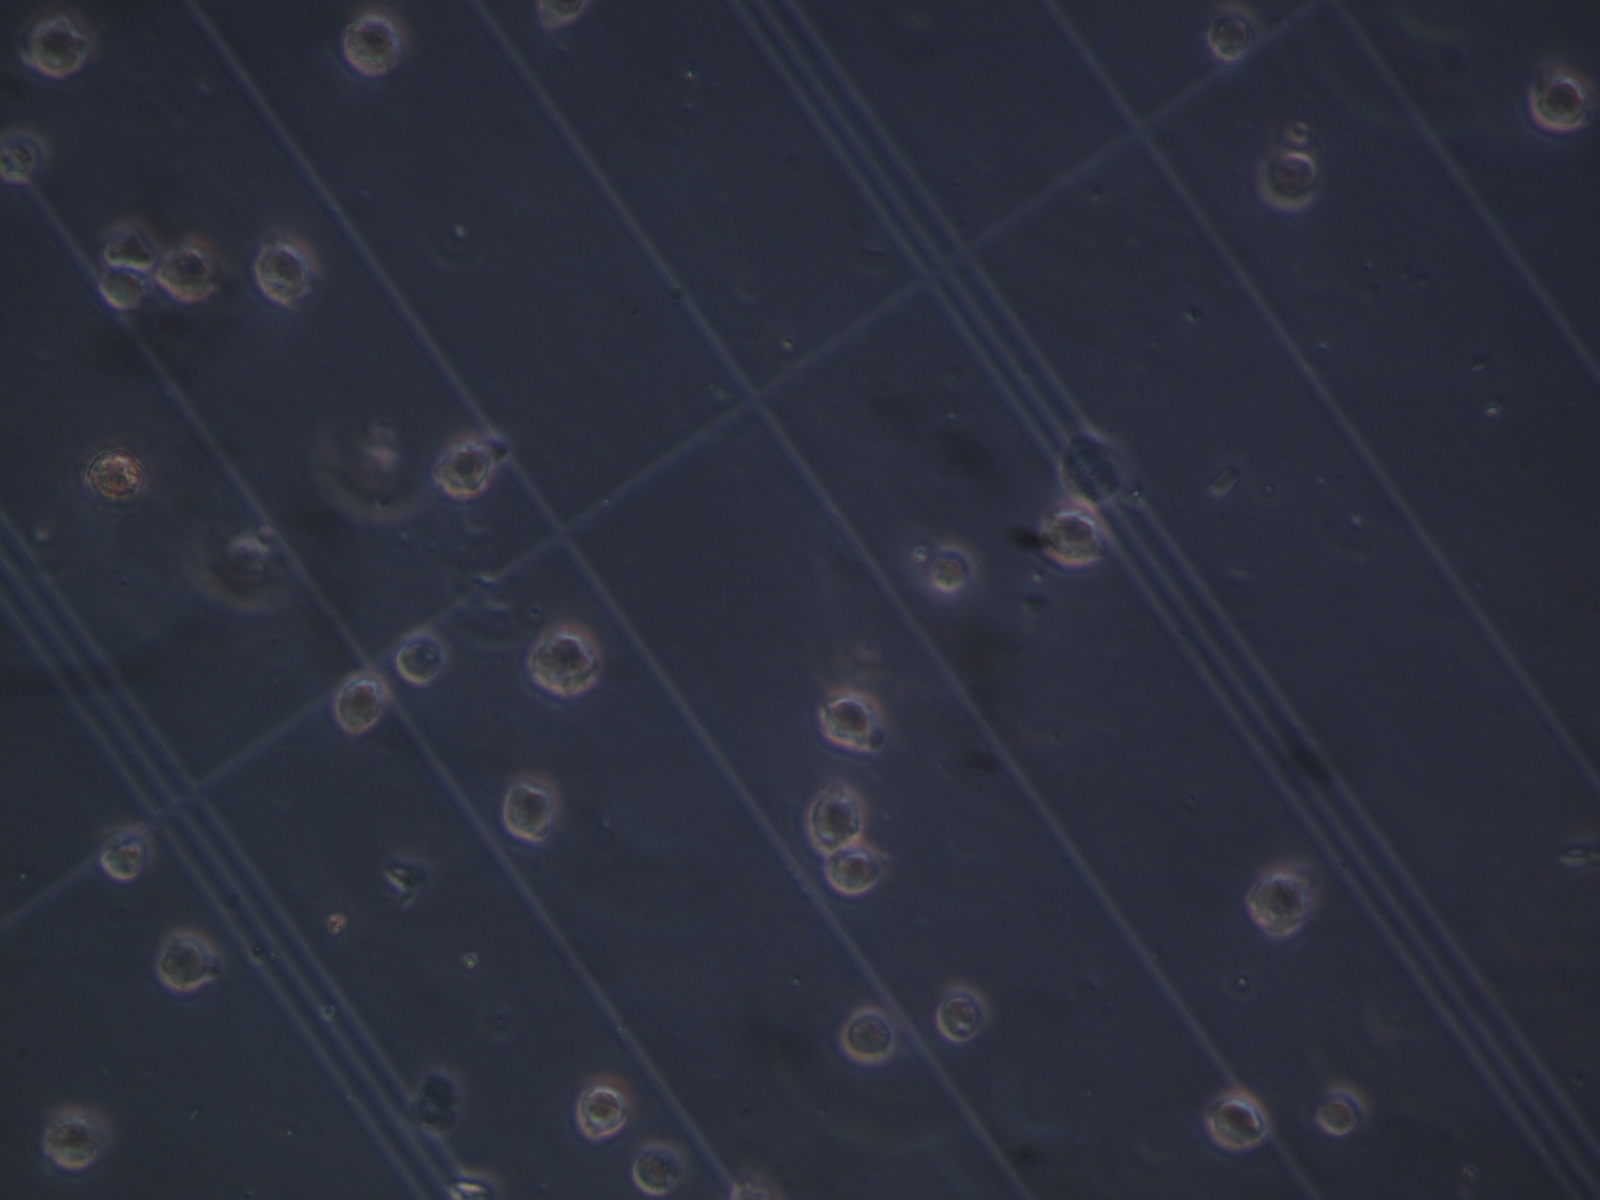hemo: (306, 424, 442, 526), (176, 519, 292, 619), (523, 619, 603, 698), (254, 231, 321, 303), (37, 1103, 107, 1170), (503, 769, 563, 843), (155, 233, 219, 300), (803, 783, 866, 851), (819, 686, 882, 753), (29, 13, 91, 79), (433, 427, 490, 499), (1254, 147, 1318, 211), (1529, 69, 1591, 132), (1247, 874, 1311, 933), (837, 1006, 898, 1066), (336, 667, 389, 736), (94, 822, 155, 882), (934, 978, 989, 1044), (1207, 1089, 1266, 1150), (156, 930, 213, 993), (343, 14, 402, 73), (1044, 505, 1102, 565), (1, 122, 54, 185), (631, 1138, 687, 1195), (396, 626, 449, 684), (821, 847, 883, 896), (574, 1087, 631, 1139), (925, 538, 975, 596), (1317, 1082, 1369, 1136), (94, 263, 149, 315), (1207, 10, 1251, 61), (537, 1, 591, 21)
